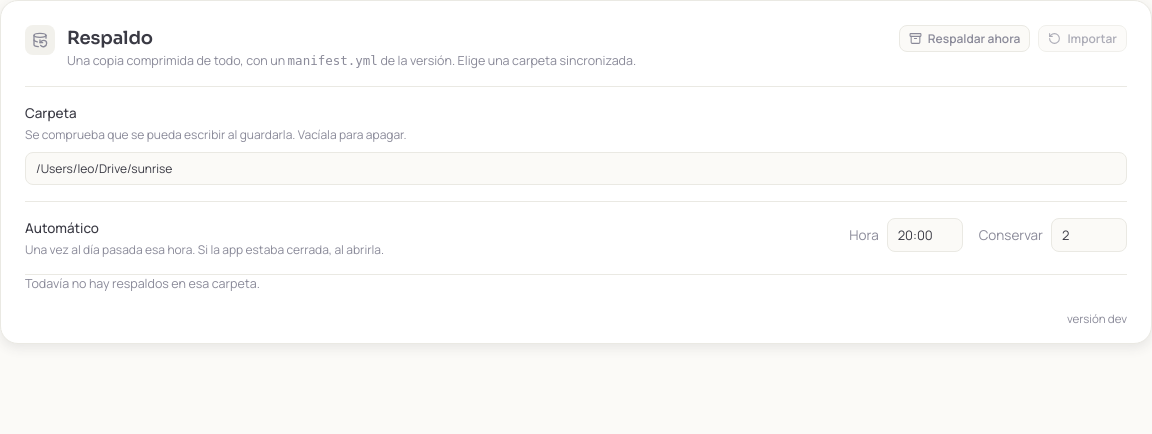
Test: BackupCard · respaldar › el respaldo manual aparece en la lista
What coordinates should you click on to do the following:
click the button "Respaldar ahora"
I would click on:
 (965, 38)
Its box is [899, 25, 1030, 52].
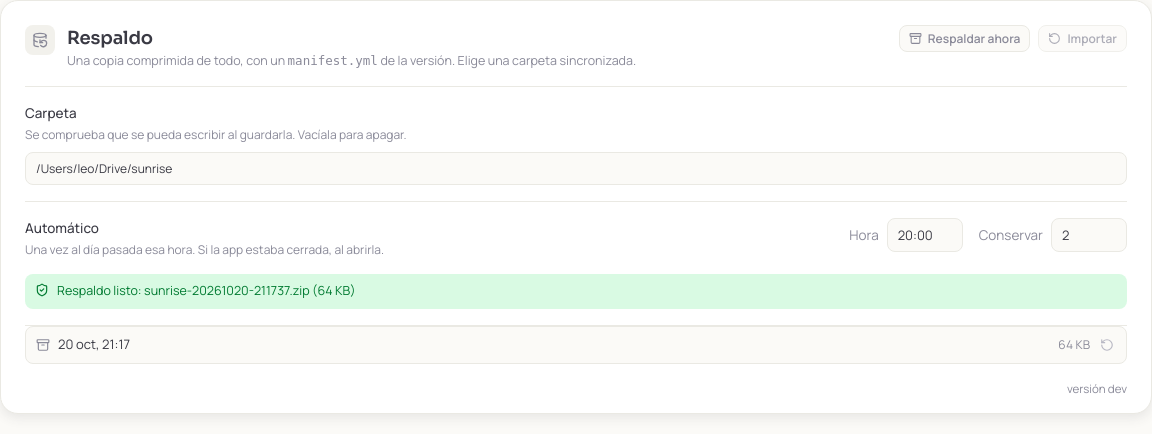
Check: the text "Respaldo listo: sunrise-20261020-211737.zip (64 KB)" is shown, box [25, 274, 1127, 308]
Check: the number of buttons named "Restaurar el respaldo del" is 1, box [1098, 336, 1116, 354]
